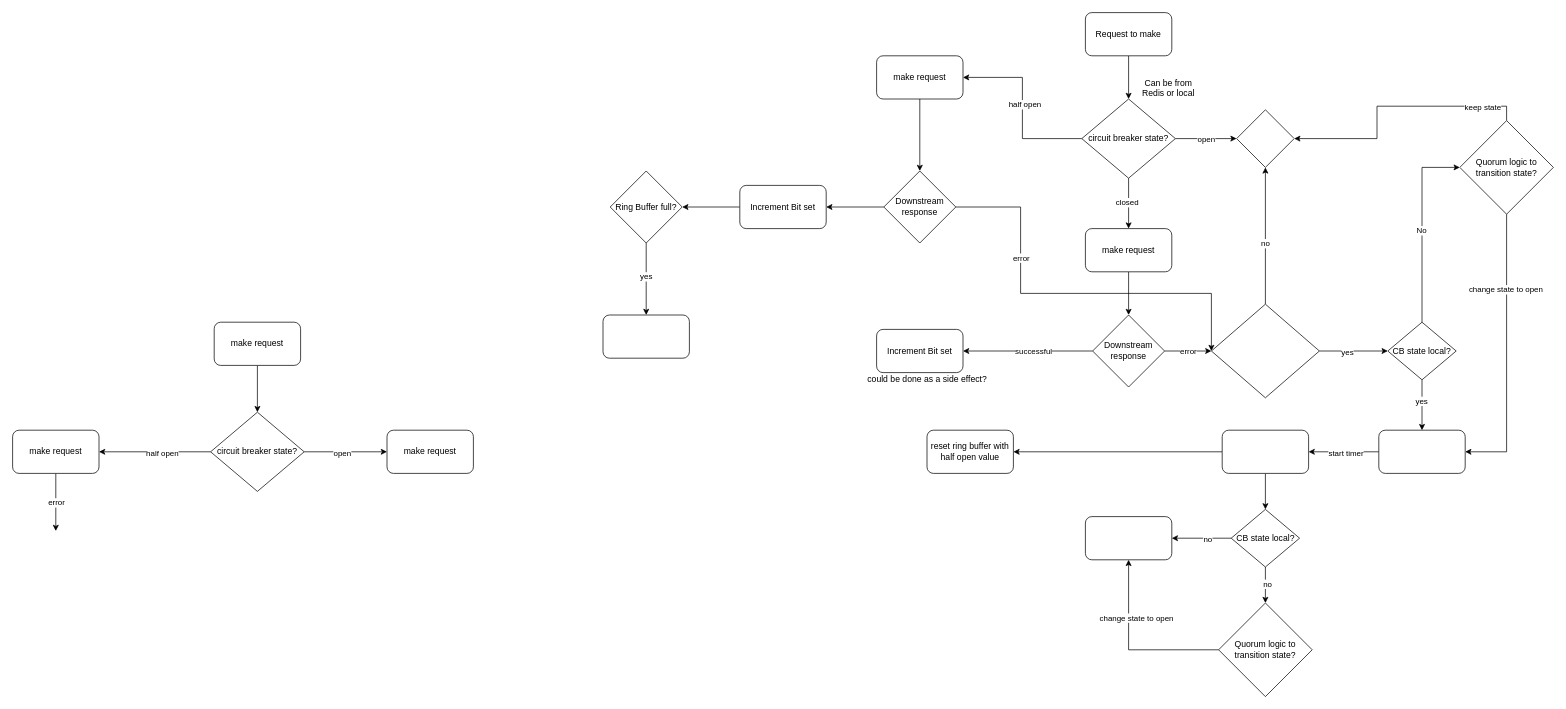
Image size: 1566x709. Some labels were removed from this diagram. The shapes that lost their labels are listed below. From the top down, each one's centre as x and y in pixels, then its label:
point (1265, 138): Fallback
point (645, 336): close circuit
point (1265, 350): Ring buffer full + error threshold met?
point (1265, 451): change state to half open
point (1421, 451): Open Circuit
point (1128, 538): half open circuit
